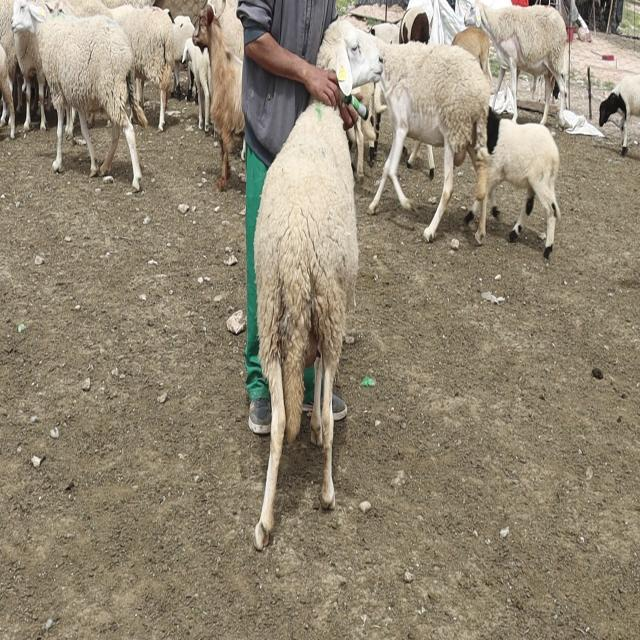Score_3: (253, 102, 359, 551)
